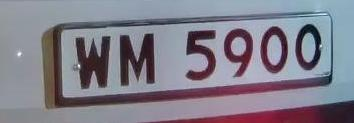0: (255, 16, 291, 82), (291, 16, 326, 78)
5: (176, 20, 220, 90)
9: (217, 20, 258, 84)
M: (110, 25, 165, 95)
W: (64, 25, 119, 97)
